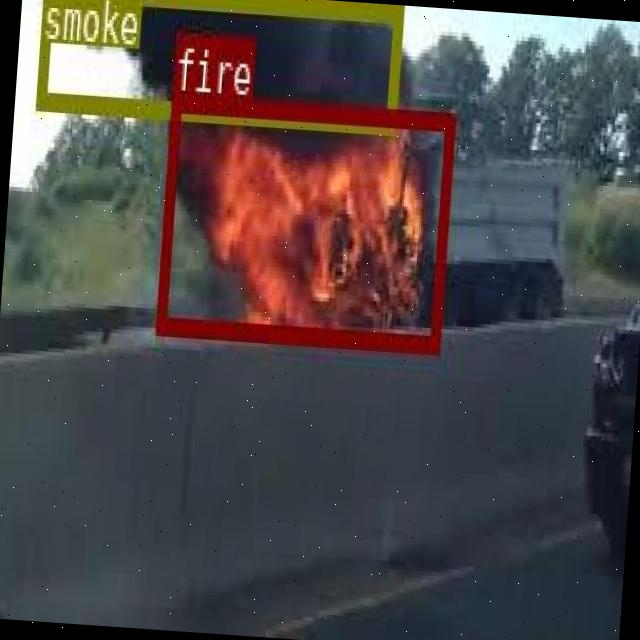fire: (154, 90, 452, 348)
smoke: (34, 0, 401, 131)
